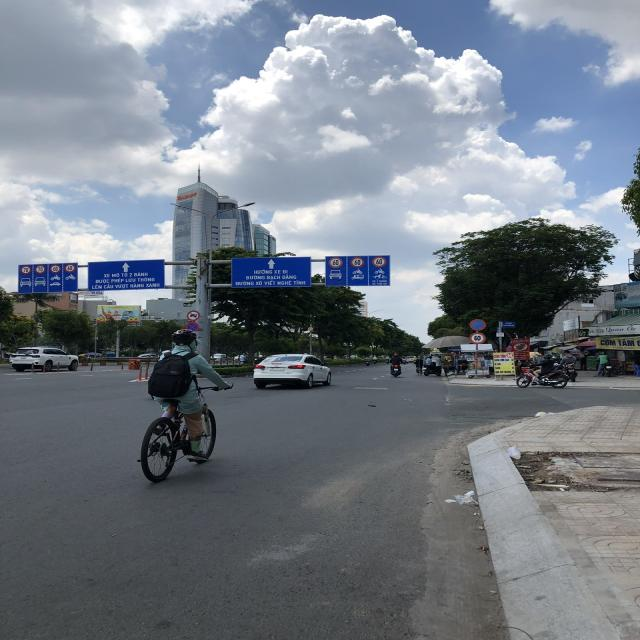Bien bao toc do toi da cho phep: (370, 256, 389, 268), (469, 332, 487, 344), (349, 256, 366, 268), (327, 256, 344, 268), (34, 264, 46, 275), (49, 263, 61, 274), (64, 263, 76, 274), (19, 265, 32, 275)
